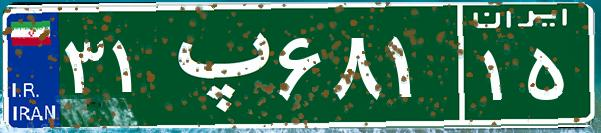1: (385, 28, 445, 110), (475, 38, 525, 113), (110, 28, 158, 105)
3: (57, 26, 110, 107)
5: (525, 38, 570, 115)
6: (273, 28, 330, 110)
8: (330, 28, 385, 110)
پ: (158, 15, 273, 115)
